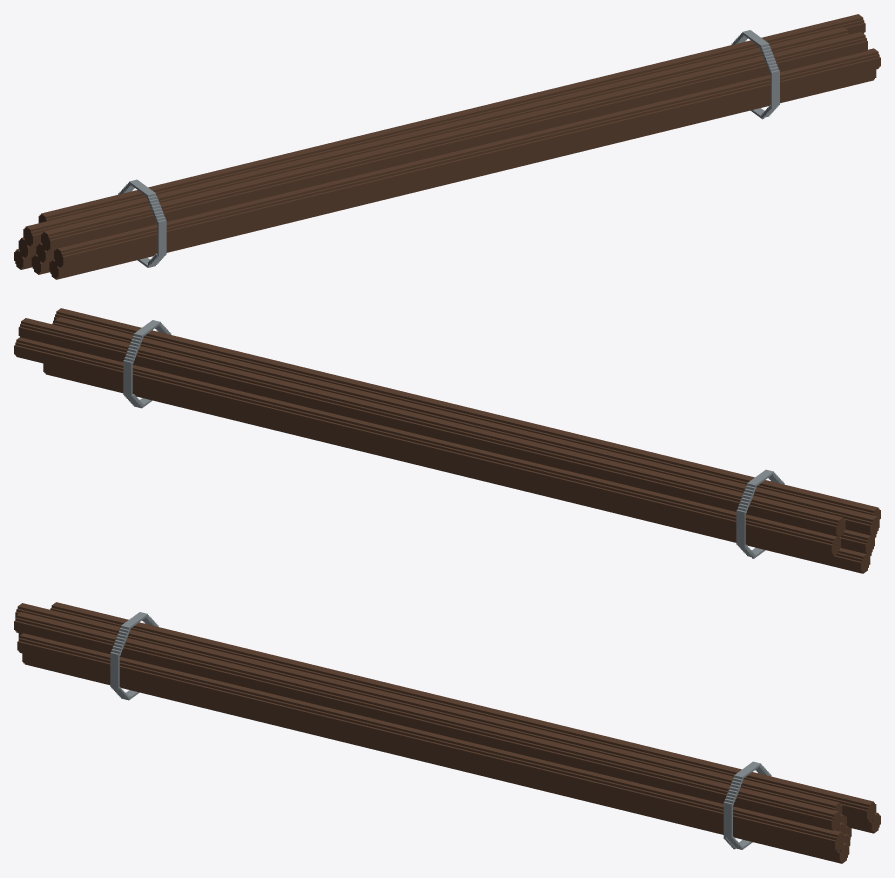
File: bundle_rebar.glb
3 views of the same model, one above another, from view 1: azimuth 30°, elevation 25°; view 2: azimuth 150°, elevation 25°; view 3: azimuth 330°, elevation 25° (orthographic).
Visible parts, largest first — view 1: bundle_rebar:compound; view 2: bundle_rebar:compound; view 3: bundle_rebar:compound.
Boxes of the visible parts, x1,y1,x2,y2 form: bundle_rebar:compound: (14,14,880,279); bundle_rebar:compound: (14,308,880,573); bundle_rebar:compound: (14,602,880,863).
Bounding box in the file's own units: 0.824 × 0.068 × 0.068.
